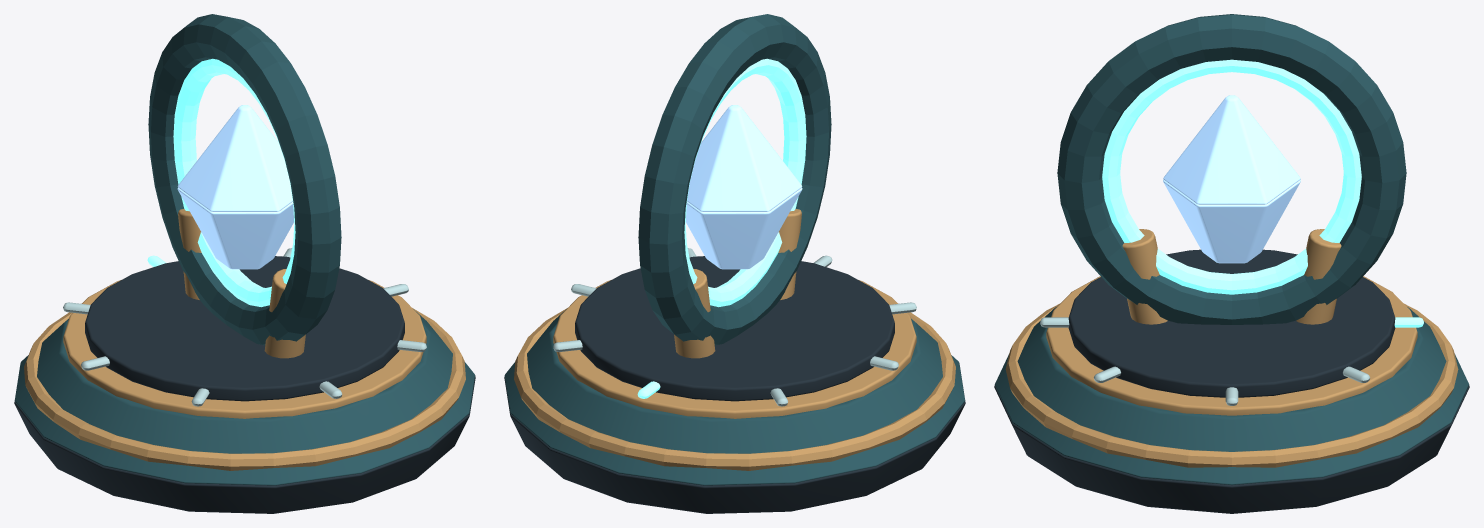
The model's file is complementor.glb.
3 renders of one model, left to right at view 1: azimuth 30°, elevation 25°; view 2: azimuth 150°, elevation 25°; view 3: azimuth 270°, elevation 25°, orthographic. The views are drawn at different scales.
Parts seen in each view (by area): view 1: complementor; view 2: complementor; view 3: complementor.
Boxes of the visible parts, box(x1,y1,x2,y2) form: complementor: box(14, 14, 475, 513); complementor: box(504, 14, 965, 513); complementor: box(994, 14, 1469, 513).
Bounding box in the file's own units: 1.08 × 1.01 × 1.08.
